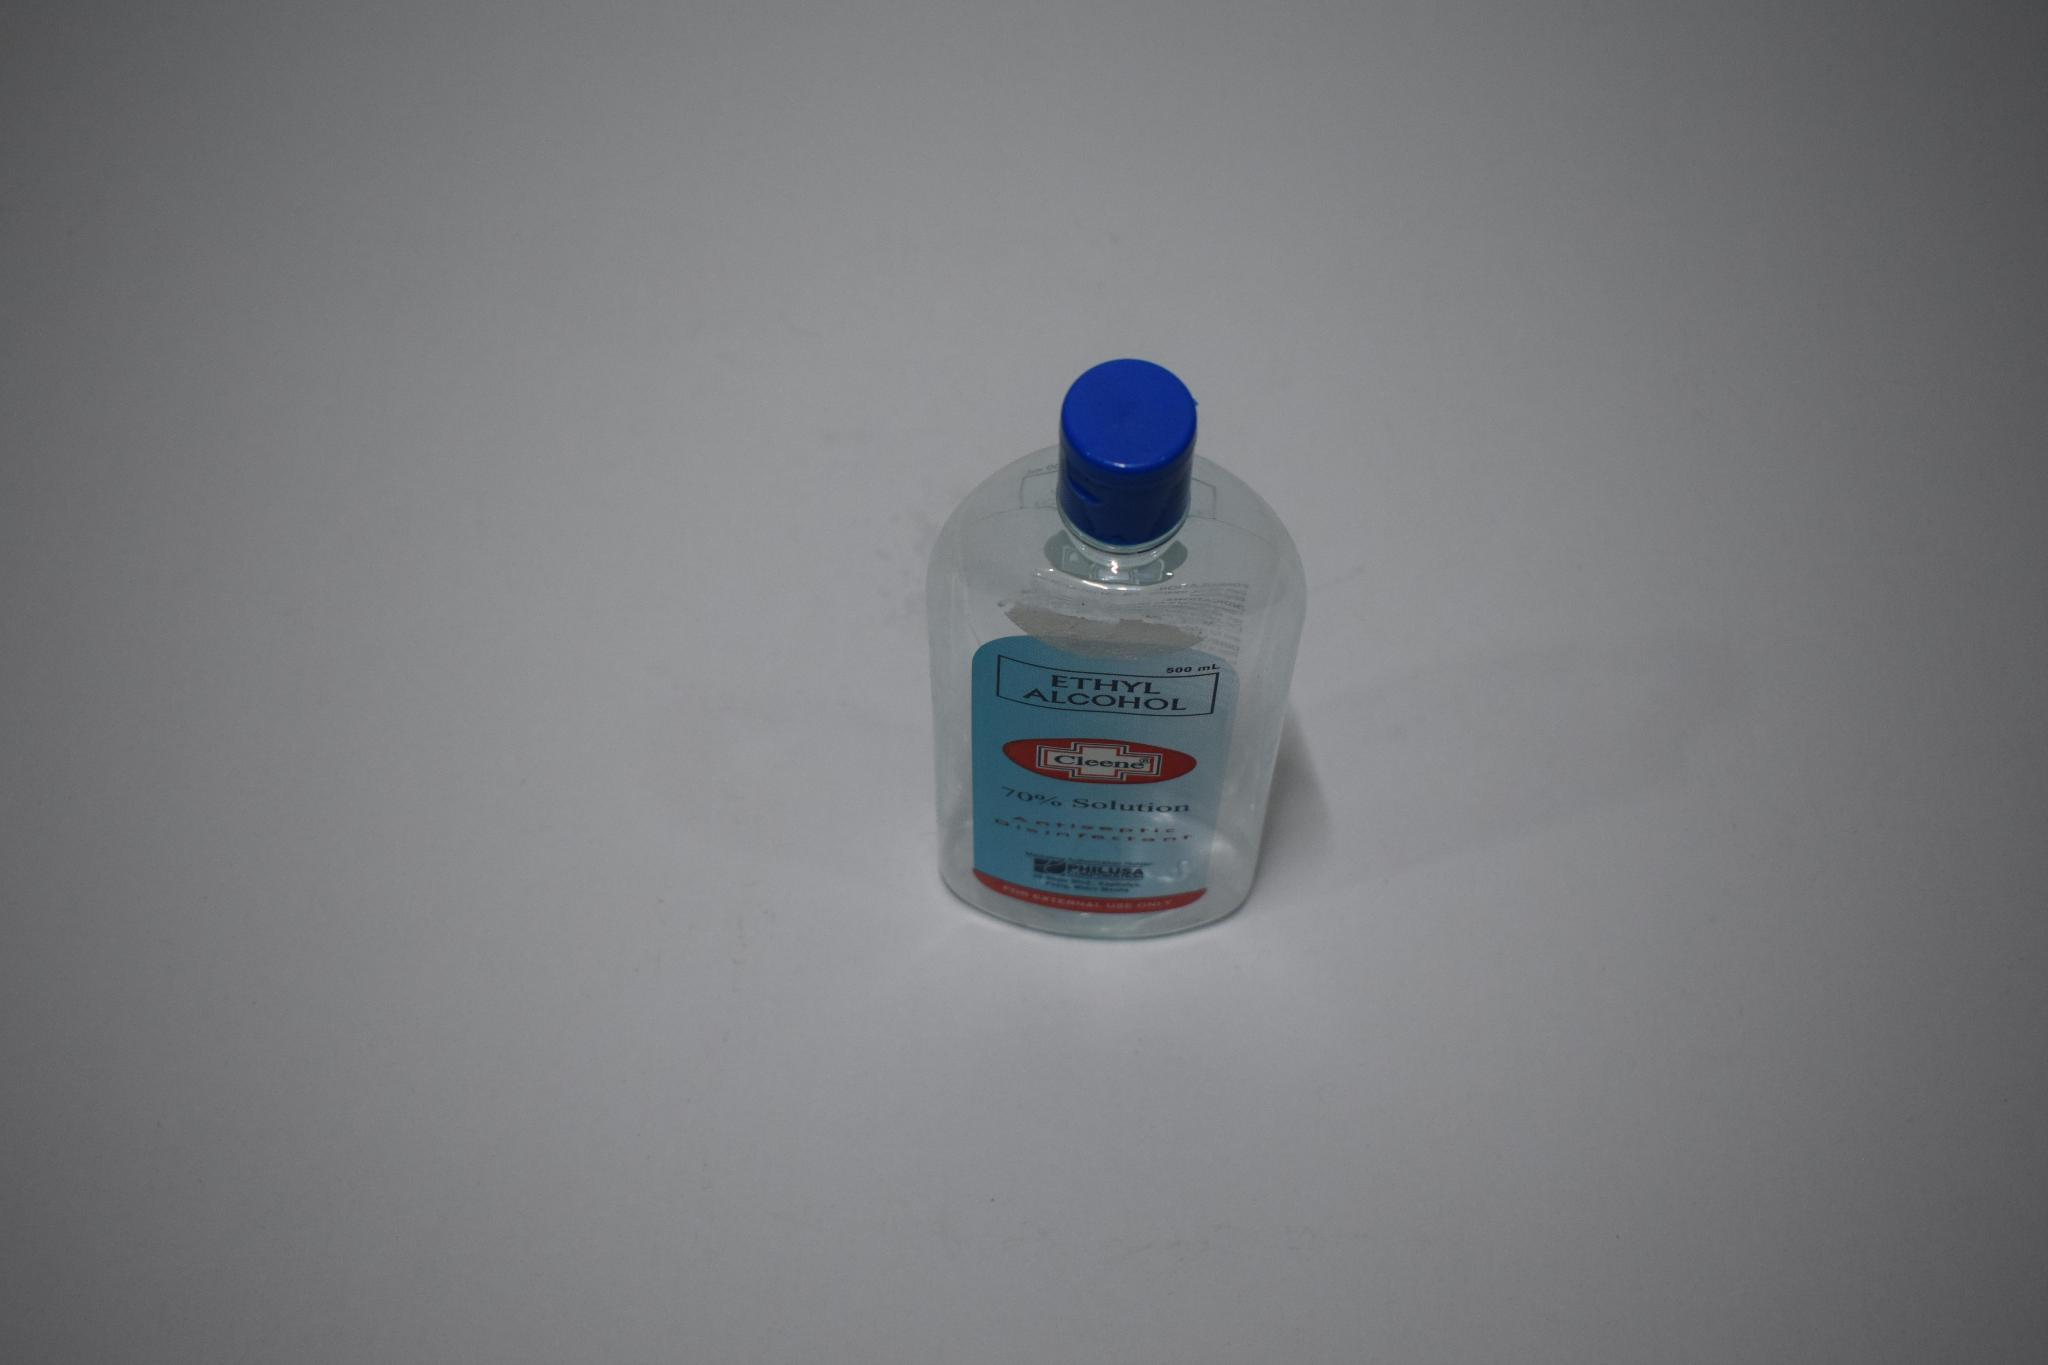bottle: (924, 358, 1310, 946)
